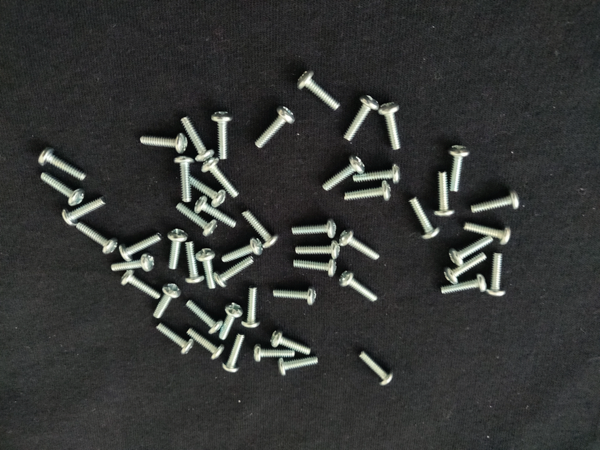shortscrew: (297, 69, 341, 111), (254, 105, 295, 149), (345, 94, 380, 142), (322, 155, 366, 192), (180, 115, 214, 162), (202, 156, 239, 199), (38, 148, 86, 180), (241, 208, 278, 249), (40, 172, 85, 205), (445, 252, 488, 286), (450, 234, 494, 267), (177, 202, 218, 237), (76, 221, 118, 255), (409, 196, 441, 240), (358, 349, 395, 387), (339, 228, 381, 261), (194, 196, 237, 228), (185, 299, 223, 335), (62, 198, 107, 227), (119, 232, 164, 261), (214, 256, 254, 288), (378, 100, 403, 151), (472, 187, 521, 213), (121, 269, 162, 300), (187, 328, 225, 361), (339, 270, 378, 302), (157, 322, 194, 355), (269, 329, 312, 356), (222, 237, 263, 265), (463, 223, 512, 246), (191, 177, 227, 207), (353, 163, 402, 185), (212, 111, 234, 160), (174, 153, 196, 202), (449, 144, 470, 193), (434, 169, 455, 218), (155, 281, 181, 320), (344, 180, 392, 201), (140, 133, 189, 153), (485, 253, 507, 297), (273, 284, 317, 306), (291, 218, 337, 239), (195, 248, 218, 290), (442, 274, 487, 295), (295, 240, 340, 261), (277, 354, 318, 377), (220, 303, 245, 340), (223, 332, 245, 374), (184, 241, 204, 286), (292, 259, 339, 278), (112, 253, 155, 273), (242, 287, 262, 329), (253, 344, 295, 363), (168, 229, 187, 270)
